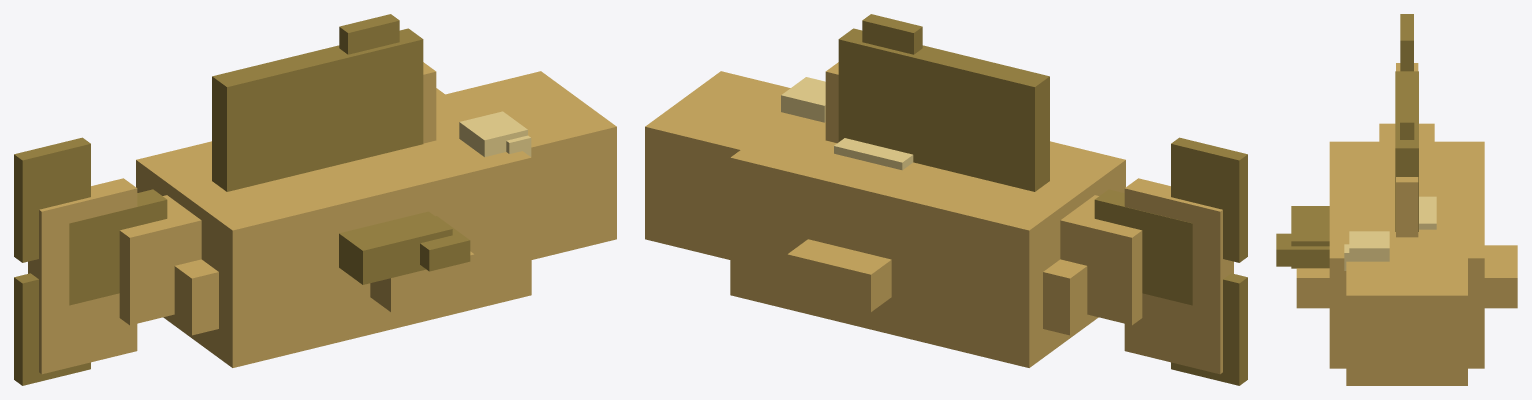
The model's file is fish_gilt_mist.glb.
The picture shows the model from 3 angles, left to right: view 1: azimuth 30°, elevation 25°; view 2: azimuth 150°, elevation 25°; view 3: azimuth 270°, elevation 25°; orthographic projection. The views are drawn at different scales.
Visible parts, largest first — view 1: FishArt_body, FishArt_dorsal, FishArt_tail, FishArt_pectoral, FishArt_eye; view 2: FishArt_body, FishArt_dorsal, FishArt_tail, FishArt_eye, FishArt_specialty; view 3: FishArt_body, FishArt_pectoral, FishArt_dorsal, FishArt_eye, FishArt_tail, FishArt_specialty.
Part boxes in pixels (x1,y1,x2,y2): FishArt_body: (28,62,616,374); FishArt_dorsal: (212,14,423,191); FishArt_tail: (14,137,167,385); FishArt_pectoral: (339,211,470,284); FishArt_eye: (459,111,531,156); FishArt_body: (645,62,1233,374); FishArt_dorsal: (838,14,1049,191); FishArt_tail: (1094,137,1247,385); FishArt_eye: (781,77,825,122); FishArt_specialty: (834,138,913,170); FishArt_body: (1296,63,1517,385); FishArt_pectoral: (1276,206,1329,268); FishArt_dorsal: (1395,71,1418,231); FishArt_eye: (1344,231,1389,270); FishArt_tail: (1400,14,1413,71); FishArt_specialty: (1419,196,1436,229).
Size of the model in its own units: 0.3091 by 0.1442 by 0.1439.
